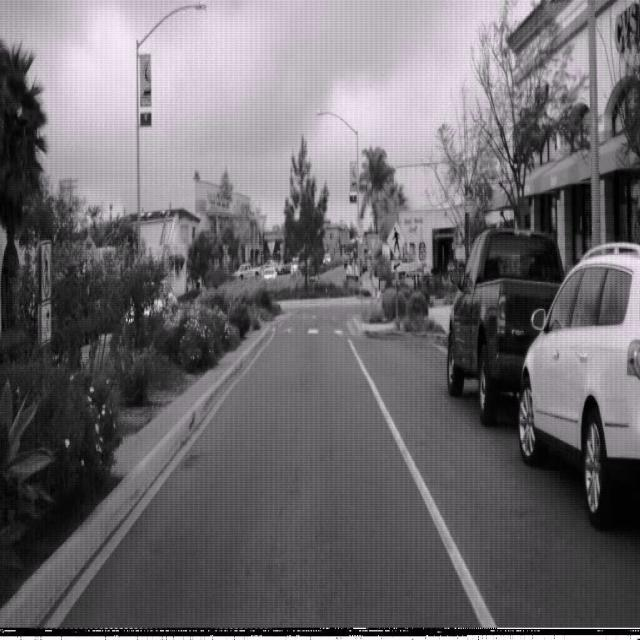pedestrianCrossing: (386, 218, 406, 261)
